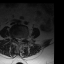CCS_normal: (18, 35, 20, 44)
LFS_normal: (22, 34, 25, 41)
LLS_normal: (20, 35, 22, 43)
RFS_stenosis: (14, 34, 16, 40)
RLS_normal: (16, 35, 18, 42)
